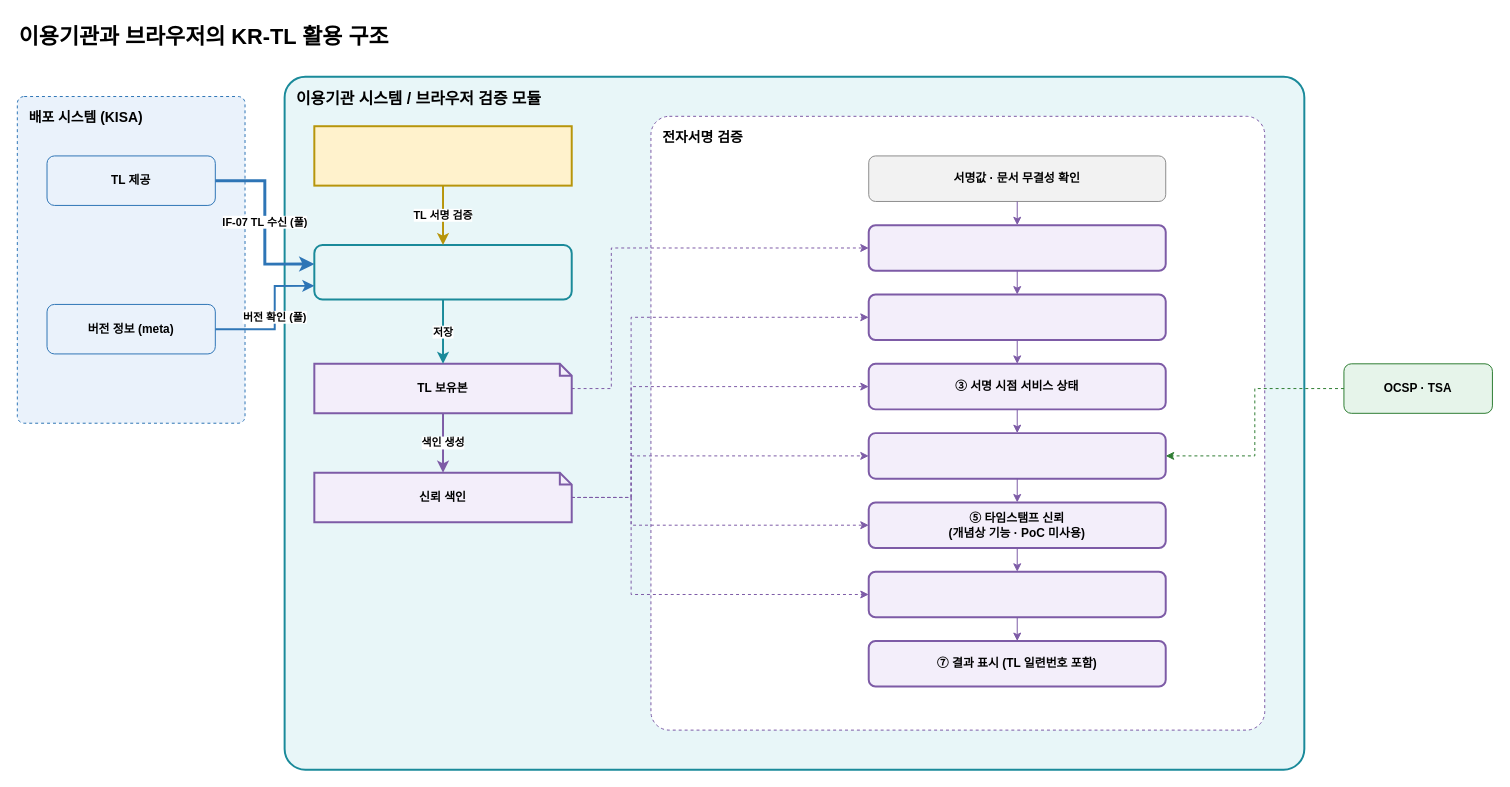
Image size: 1510x787. Some labels were removed from this diagram. Here are the shapes that lost their labels. From the top down, the centre of each, then its label:
the point at 442,155: KR-TL 신뢰앵커 (신뢰저장소 · KISA TL RootCA)
the point at 1016,247: ① TL 유효성 확인
the point at 442,272: TL 동기화 모듈
the point at 1016,317: ② 신뢰점 찾기
the point at 1016,455: ④ OCSP 응답 신뢰
the point at 1016,594: ⑥ 수용 정책 확인
